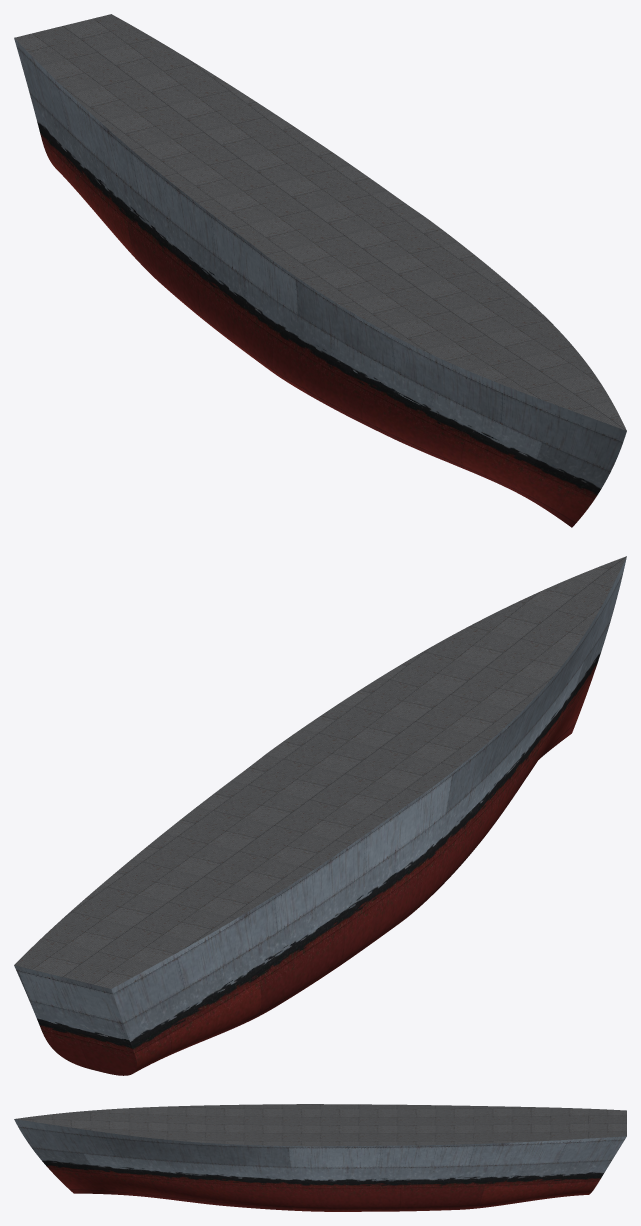
Rendered from carrier_hull.glb.
The picture shows the model from 3 angles, top to bottom: view 1: azimuth 30°, elevation 25°; view 2: azimuth 150°, elevation 25°; view 3: azimuth 270°, elevation 25°; orthographic projection. The views are drawn at different scales.
Parts seen in each view (by area): view 1: deck, hull; view 2: deck, hull; view 3: hull, deck.
Boxes of the visible parts, bbox=[...] form: deck: bbox=[14, 14, 626, 430]; hull: bbox=[14, 38, 626, 527]; deck: bbox=[14, 556, 626, 988]; hull: bbox=[14, 557, 626, 1075]; hull: bbox=[14, 1119, 626, 1211]; deck: bbox=[14, 1104, 626, 1146].
Size of the model in its own units: 5.2 by 4.65 by 32.
2 materials, 2 textured.
